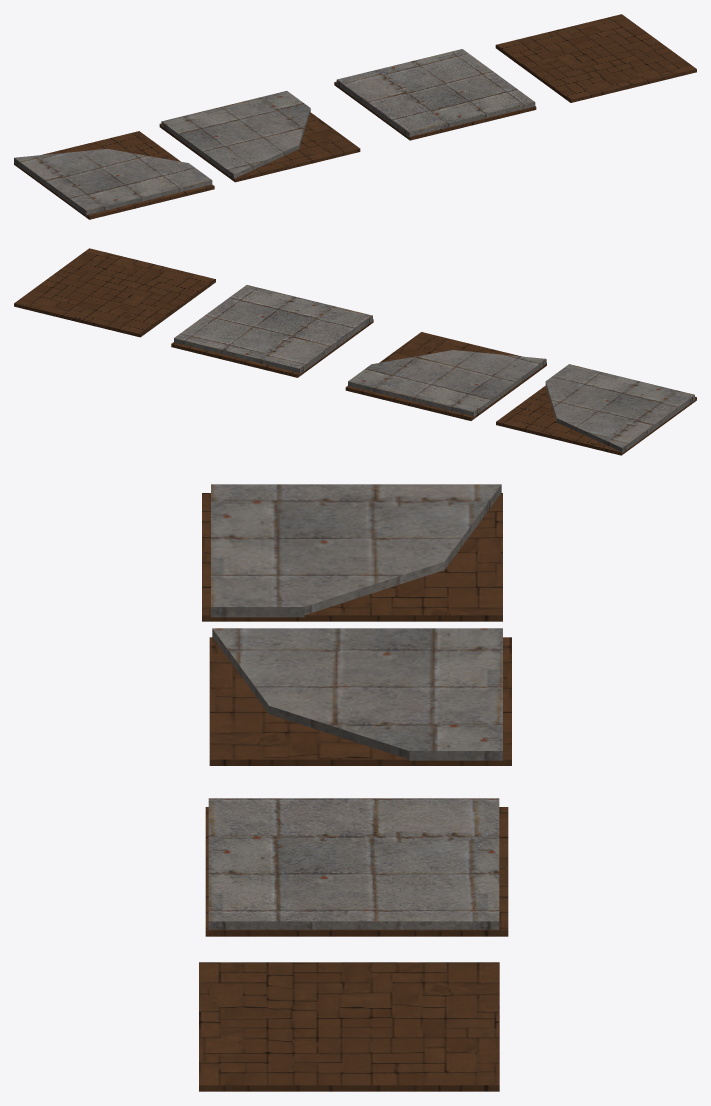
Rendered from FloorTiles.fbx.
3 views of the same model, one above another, from view 1: azimuth 30°, elevation 25°; view 2: azimuth 150°, elevation 25°; view 3: azimuth 270°, elevation 25° (orthographic). The views are drawn at different scales.
Visible parts, largest first — view 1: Cube.050, Cube.049, Cube.068, Cube.052; view 2: Cube.050, Cube.068, Cube.049, Cube.052; view 3: Cube.050, Cube.049, Cube.068, Cube.052.
Boxes of the visible parts, box(x1,y1,x2,y2) form: Cube.050: box(334, 49, 536, 140); Cube.049: box(159, 91, 360, 182); Cube.068: box(14, 131, 214, 219); Cube.052: box(495, 14, 696, 102); Cube.050: box(171, 285, 373, 377); Cube.068: box(496, 364, 696, 455); Cube.049: box(345, 332, 546, 420); Cube.052: box(14, 248, 215, 337); Cube.050: box(205, 798, 508, 936); Cube.049: box(209, 628, 511, 765); Cube.068: box(202, 484, 502, 621); Cube.052: box(199, 962, 499, 1091).
Size of the model in its own units: 2412 by 28.15 by 538.
Materials: 1 (1 with a texture image).
